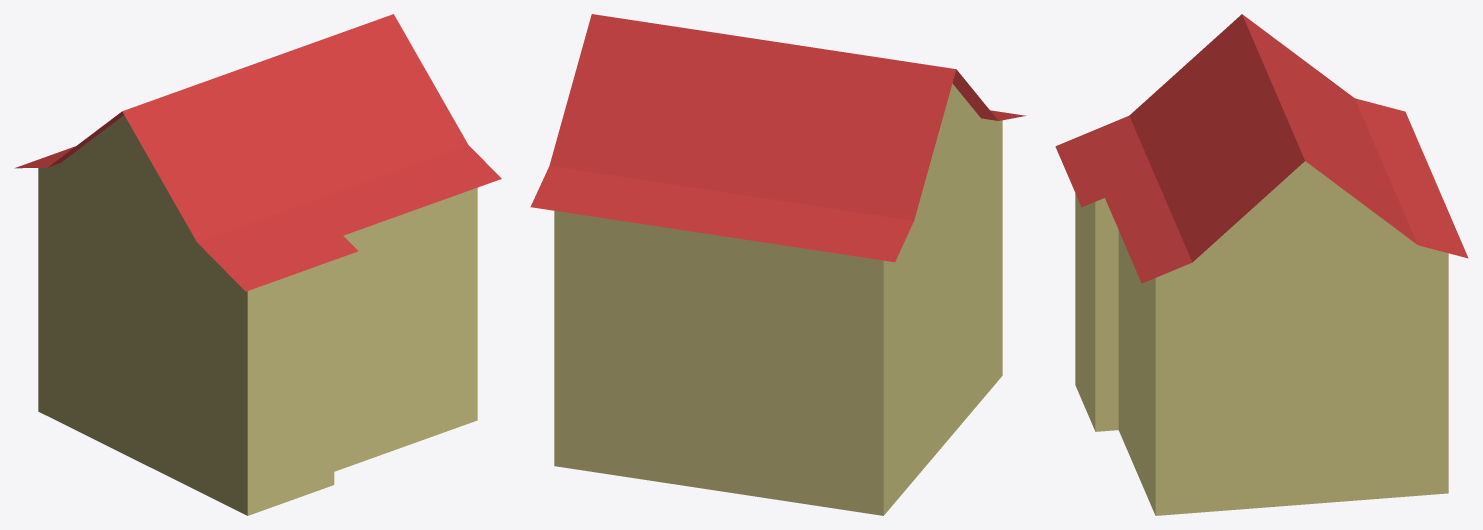
3 views of the same model, side by side, from view 1: azimuth 30°, elevation 25°; view 2: azimuth 150°, elevation 25°; view 3: azimuth 270°, elevation 25° (orthographic). The views are drawn at different scales.
Size of the model in its own units: 11.86 by 12.04 by 11.28.
